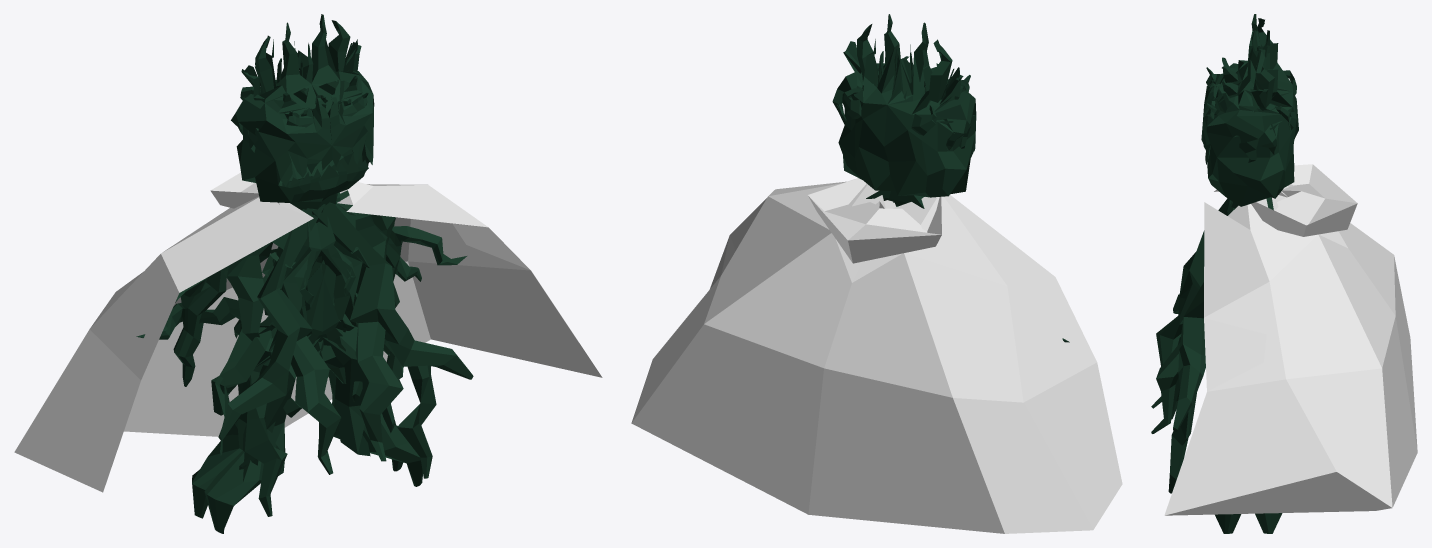
File: yellow king.fbx
3 views of the same model, side by side, from view 1: azimuth 30°, elevation 25°; view 2: azimuth 150°, elevation 25°; view 3: azimuth 270°, elevation 25° (orthographic). The views are drawn at different scales.
Parts seen in each view (by area): view 1: cloak, arms?, head, legs?, chest?; view 2: cloak, head; view 3: cloak, head, arms?, legs?.
Part boxes in pixels (x1,y1,x2,y2): cloak: (14,172,602,492); arms?: (136,190,473,516); head: (231,14,374,210); legs?: (192,246,422,533); chest?: (264,195,369,358); cloak: (631,178,1122,533); head: (832,14,976,208); cloak: (1164,164,1417,515); head: (1201,14,1298,210); arms?: (1151,198,1235,493); legs?: (1215,513,1282,533).
Size of the model in its own units: 219 by 206 by 106.
